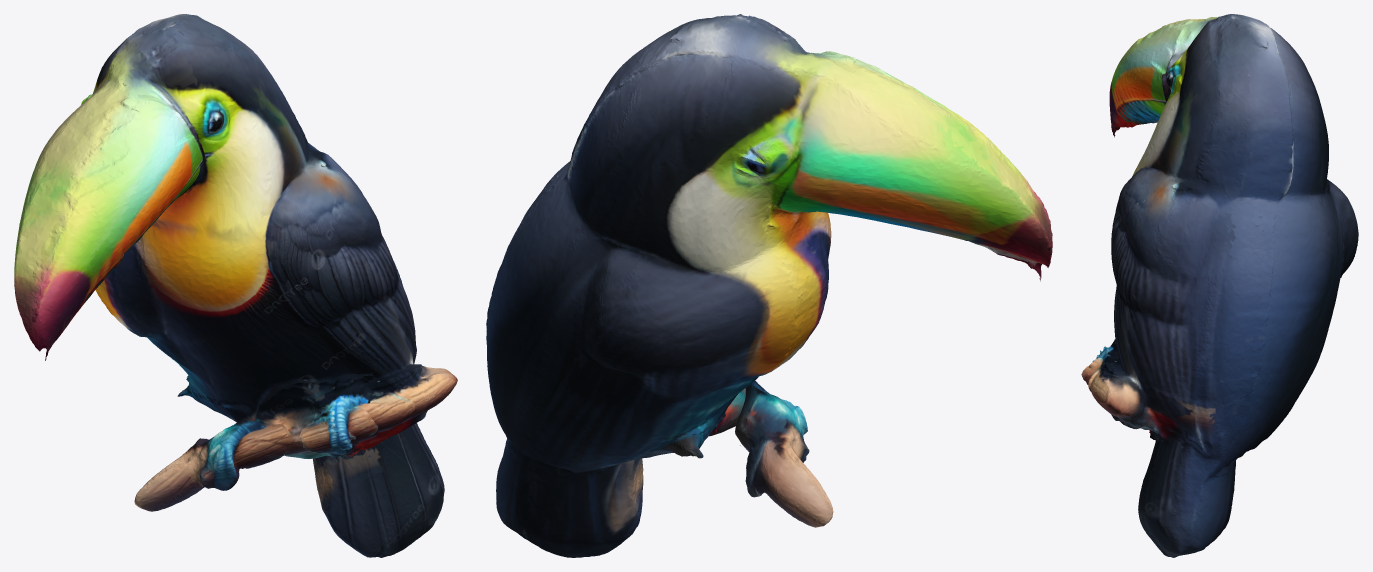
Rendered from Toucan.glb.
The picture shows the model from 3 angles, left to right: view 1: azimuth 30°, elevation 25°; view 2: azimuth 150°, elevation 25°; view 3: azimuth 270°, elevation 25°; orthographic projection. The views are drawn at different scales.
Parts seen in each view (by area): view 1: world; view 2: world; view 3: world.
Part boxes in pixels (x1,y1,x2,y2): world: (14,14,457,557); world: (486,14,1052,557); world: (1081,14,1358,557).
Bounding box in the file's own units: 1.28 × 1.48 × 0.8009.
1 material, 1 textured.
